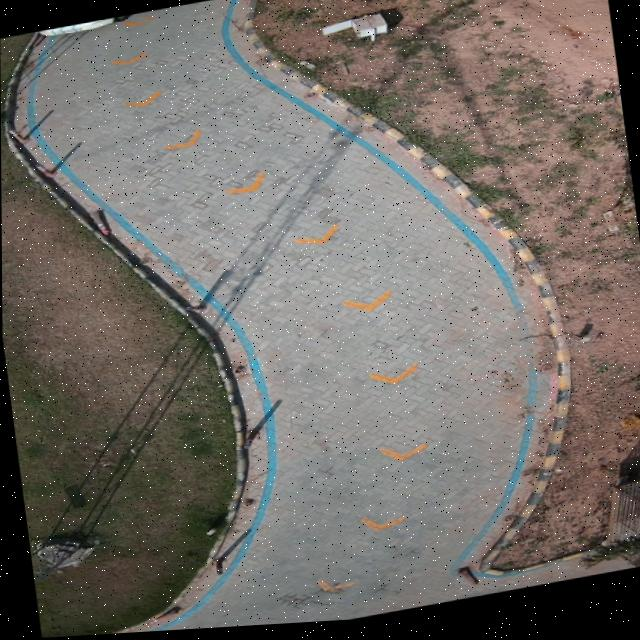car: (38, 15, 134, 39)
